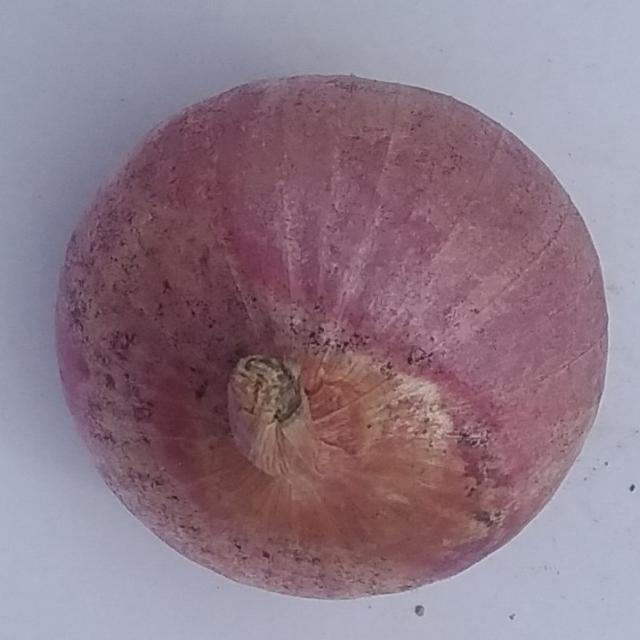onion: (48, 70, 612, 603)
